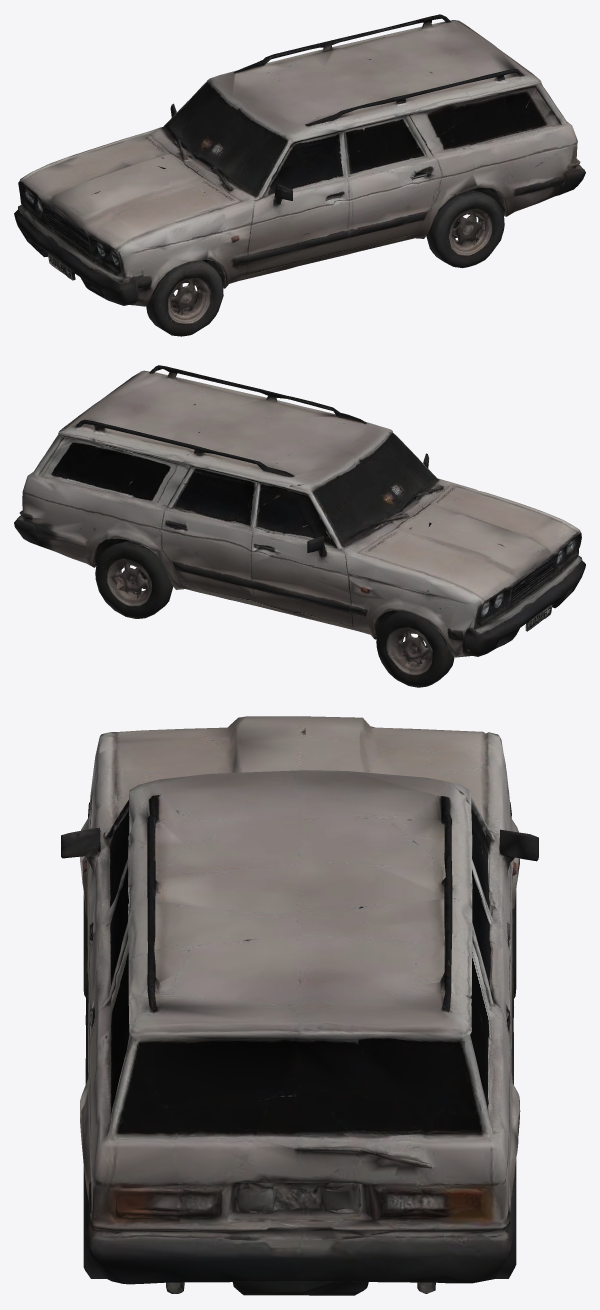
The model's file is getkong-mcar3.glb.
3 renders of one model, top to bottom at view 1: azimuth 30°, elevation 25°; view 2: azimuth 150°, elevation 25°; view 3: azimuth 270°, elevation 25°, orthographic. The views are drawn at different scales.
Bounding box in the file's own units: 1.9 × 0.6577 × 0.8193.
1 material, 1 textured.
